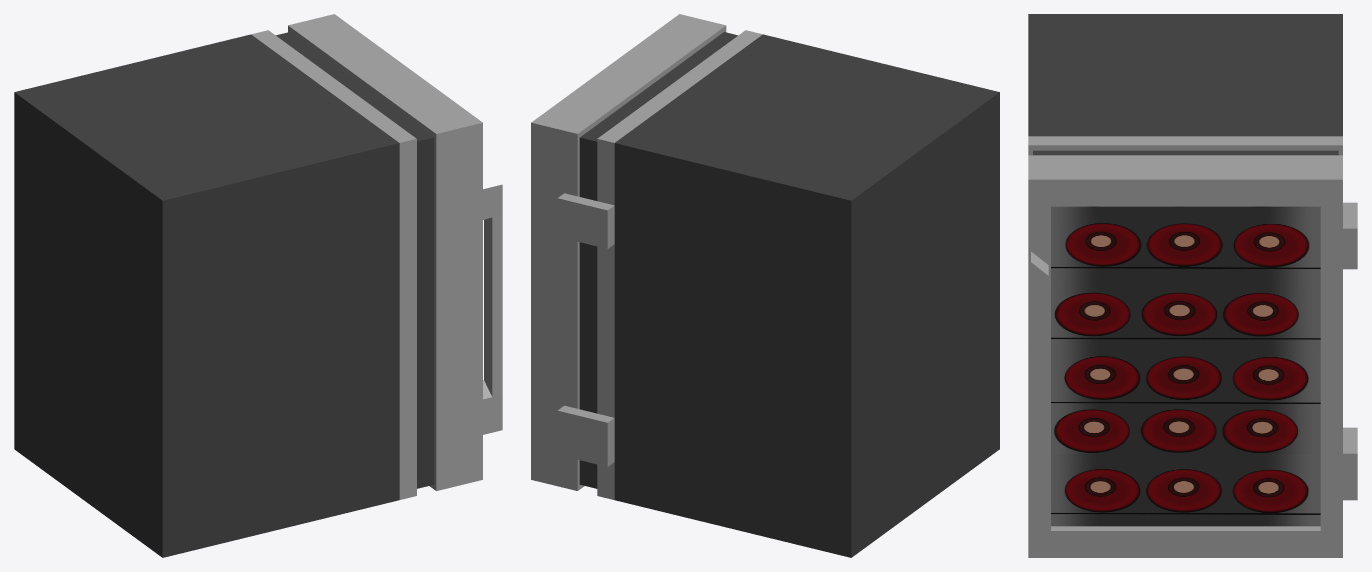
The model's file is prop export - cooler 1.fbx.
3 renders of one model, left to right at view 1: azimuth 30°, elevation 25°; view 2: azimuth 150°, elevation 25°; view 3: azimuth 270°, elevation 25°, orthographic. The views are drawn at different scales.
Visible parts, largest first — view 1: pCube4; view 2: pCube4; view 3: pCube4.
Boxes of the visible parts, x1=… form: pCube4: x1=14, y1=14, x2=502, y2=557; pCube4: x1=531, y1=14, x2=999, y2=557; pCube4: x1=1028, y1=14, x2=1357, y2=557.
Size of the model in its own units: 67.43 by 67.49 by 53.18.
Materials: 3 (1 with a texture image).
